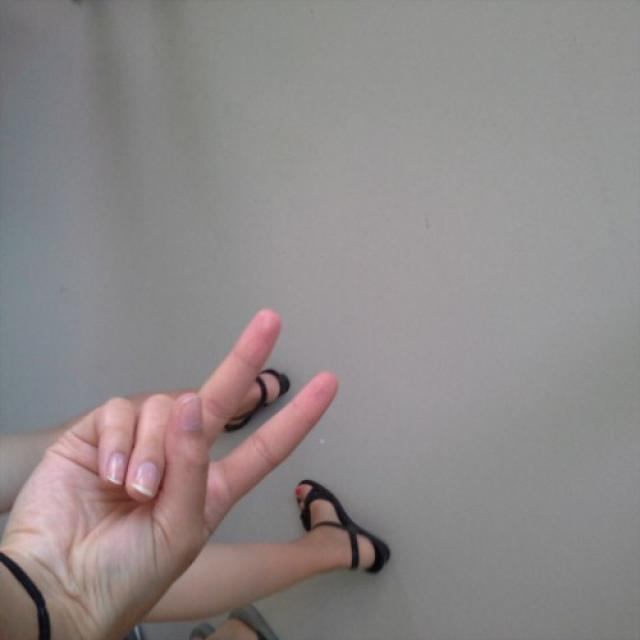scissors: (35, 308, 342, 526)
